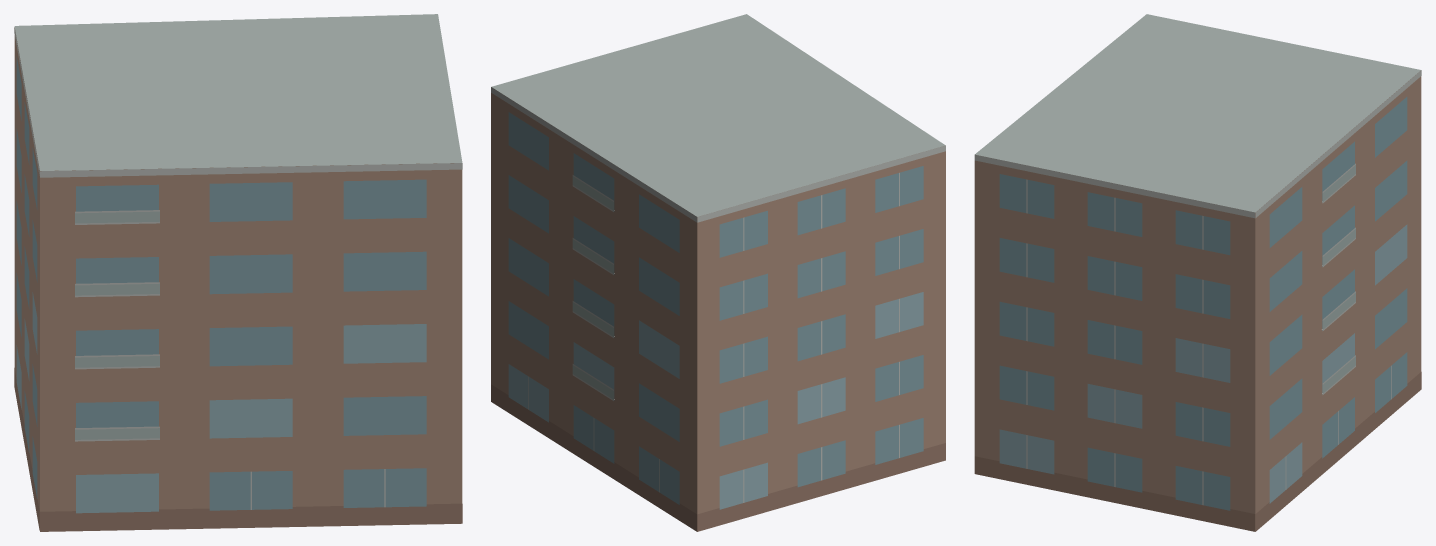
File: survey-upis-32842169.glb
3 views of the same model, side by side, from view 1: azimuth 30°, elevation 25°; view 2: azimuth 150°, elevation 25°; view 3: azimuth 270°, elevation 25° (orthographic). The views are drawn at different scales.
Visible parts, largest first — view 1: survey-upis-32842169.tmp; view 2: survey-upis-32842169.tmp; view 3: survey-upis-32842169.tmp.
Boxes of the visible parts, x1,y1,x2,y2 form: survey-upis-32842169.tmp: [14, 14, 462, 531]; survey-upis-32842169.tmp: [491, 14, 945, 531]; survey-upis-32842169.tmp: [974, 14, 1421, 531].
Bounding box in the file's own units: 17.6 × 13.2 × 16.74.
